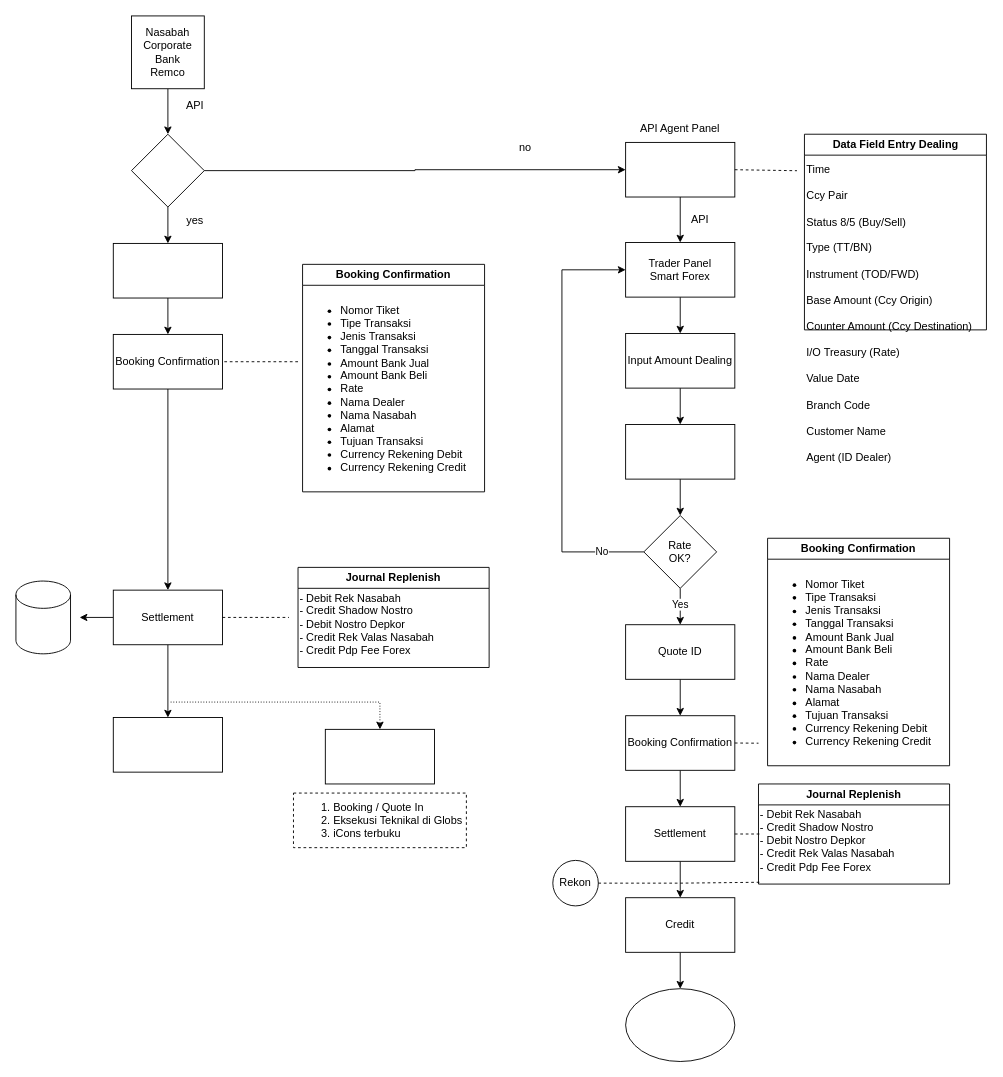
The diagram is 1003 pixels wide and 1077 high, and some of its shapes have lost their labels. Here are the shapes that lost their labels. From the top down, the centre of each, then its label:
At point (167, 170): "Query Rate".
At point (680, 169): "Input Data ke SmartForex".
At point (167, 270): "Quote Rate ID".
At point (680, 451): "Agent Panel".
At point (43, 617): "Laporan ANTASENA".
At point (167, 744): "Credit to Rekening".
At point (379, 756): "Pengembangan - Recon Direct Settlement".
At point (680, 1025): "End".
